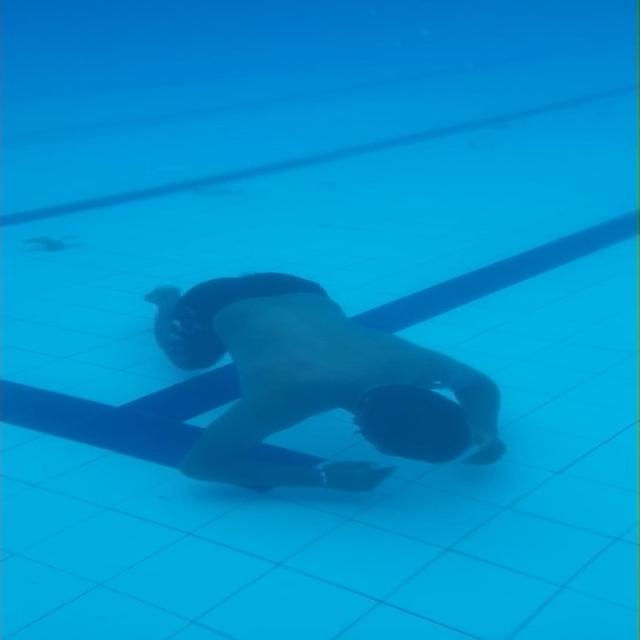Drowning: (140, 270, 509, 499)
